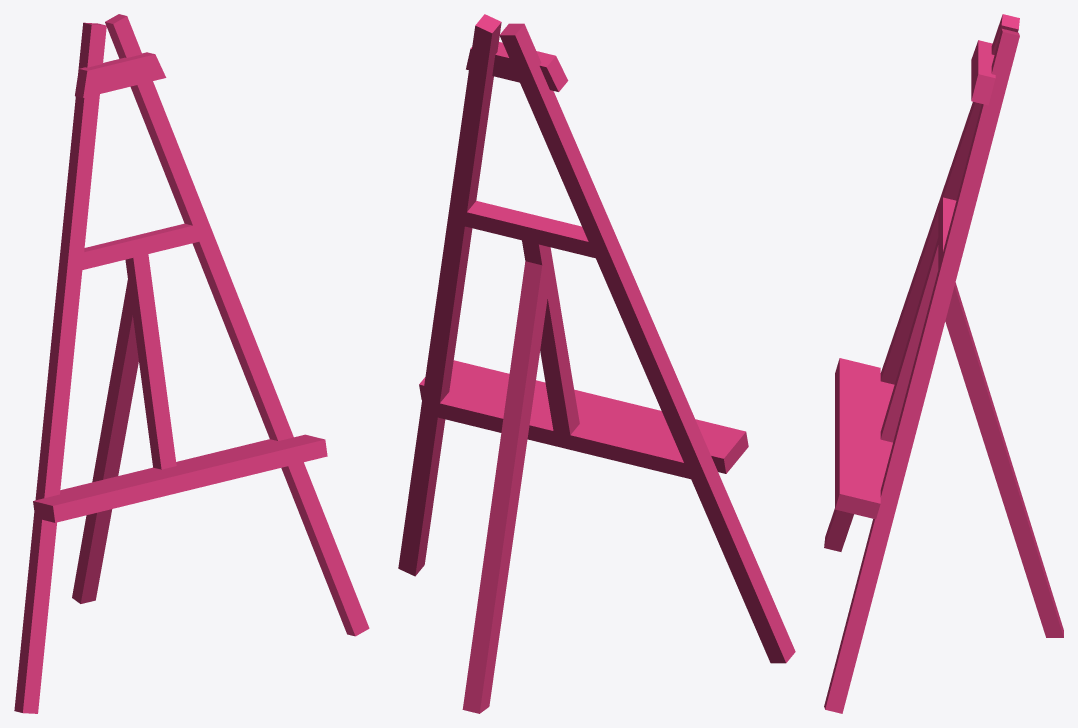
The model's file is SM_easel_only.fbx.
3 views of the same model, side by side, from view 1: azimuth 30°, elevation 25°; view 2: azimuth 150°, elevation 25°; view 3: azimuth 270°, elevation 25° (orthographic). The views are drawn at different scales.
Parts seen in each view (by area): view 1: easel_low.007; view 2: easel_low.007; view 3: easel_low.007.
Boxes of the visible parts, box(x1,y1,x2,y2) form: easel_low.007: box(14, 14, 369, 713); easel_low.007: box(398, 14, 795, 713); easel_low.007: box(824, 14, 1063, 713).
Size of the model in its own units: 91.68 by 151 by 53.7.
